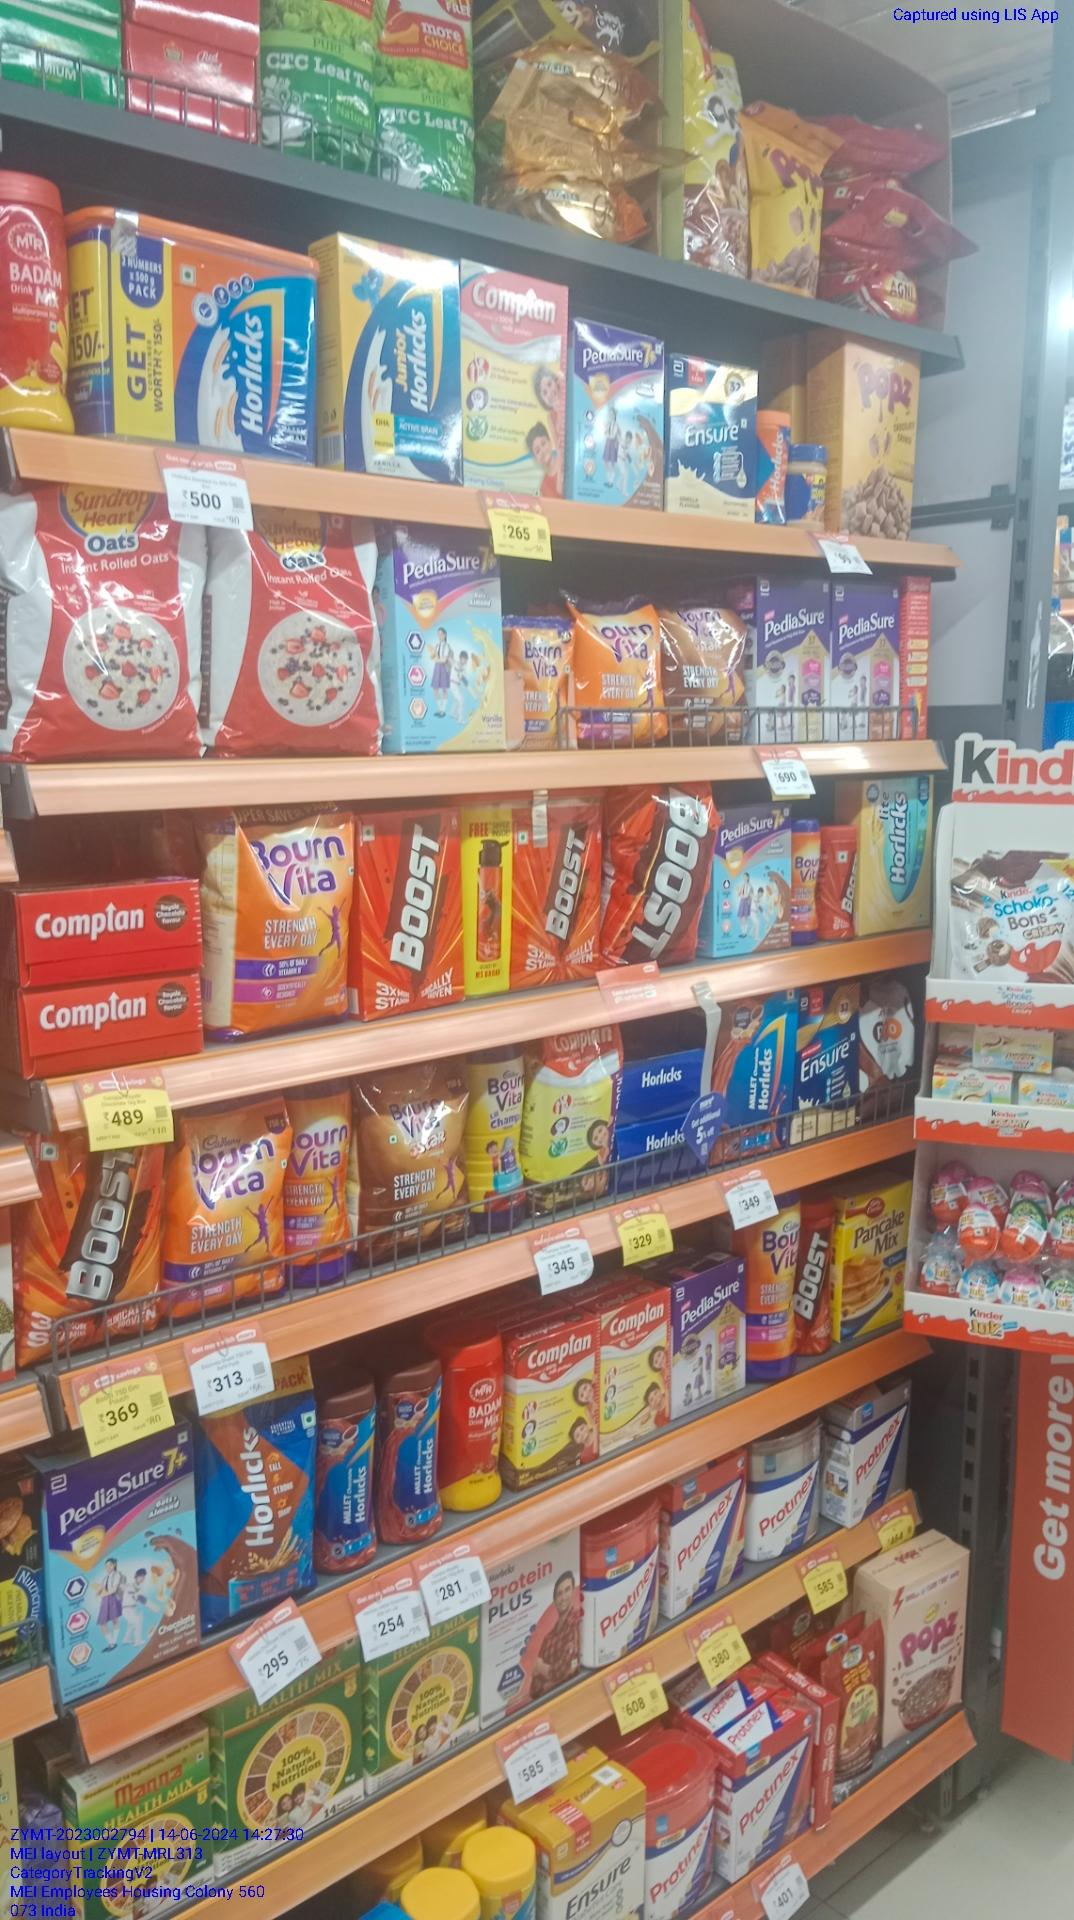BOURN_VITA_500_G_JAR: (282, 1092, 348, 1283), (549, 676, 625, 676)
BOURN_VITA_CHAMPS_500_G_JAR: (471, 1056, 524, 1222)
BOURN_VITA_FIVE_STAR_MAGIC_500_G_POUCH: (359, 1077, 466, 1246), (661, 608, 744, 741)
COMPLAN_CREAMY_CLASSIC_500_G_PACK: (464, 281, 567, 489)
HORLICK_MALT_1_KG_CONTAINER: (87, 218, 315, 451)
PEDIASURE_7_PLUS_CHOCOLATE_400_G_PACK: (58, 1429, 191, 1700), (569, 340, 668, 506), (714, 804, 790, 953)
PEDIASURE_VANILLA_500_G_PACK: (756, 574, 829, 744), (833, 582, 901, 738), (681, 1261, 748, 1416)
PROTINEX_CHOCOLATE_400_G_JAR: (653, 1763, 719, 1920)
PROTINEX_ORIGINAL_400_G_JAR: (748, 1445, 827, 1551)
PROTINEX_VANILLA_400_G_JAR: (590, 1510, 662, 1663)
